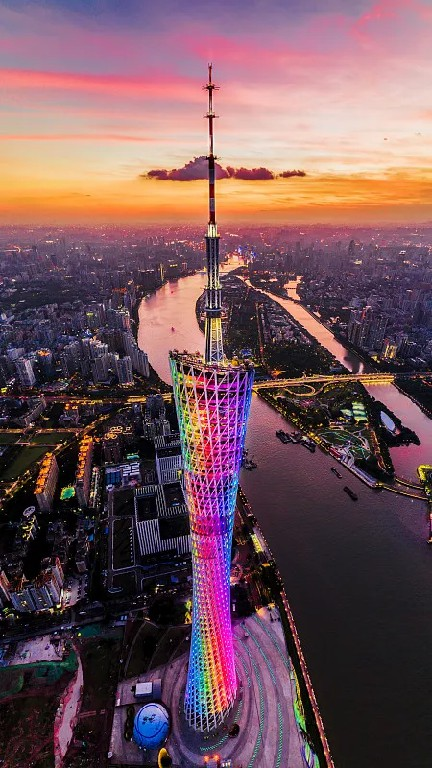Canton: (150, 59, 266, 741)
